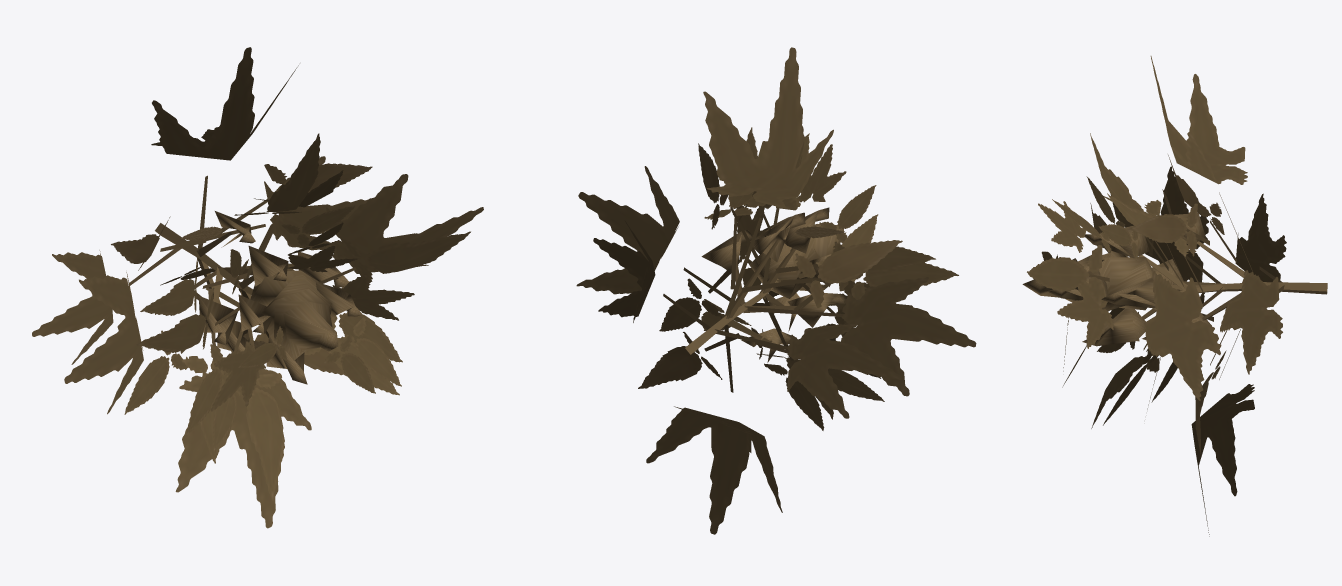
Rendered from p_auto_ripe_c3_cards.obj.
3 renders of one model, left to right at view 1: azimuth 30°, elevation 25°; view 2: azimuth 150°, elevation 25°; view 3: azimuth 270°, elevation 25°, orthographic. The views are drawn at different scales.
Size of the model in its own units: 1.52 by 1.69 by 0.947.
Materials: 1 (1 with a texture image).
